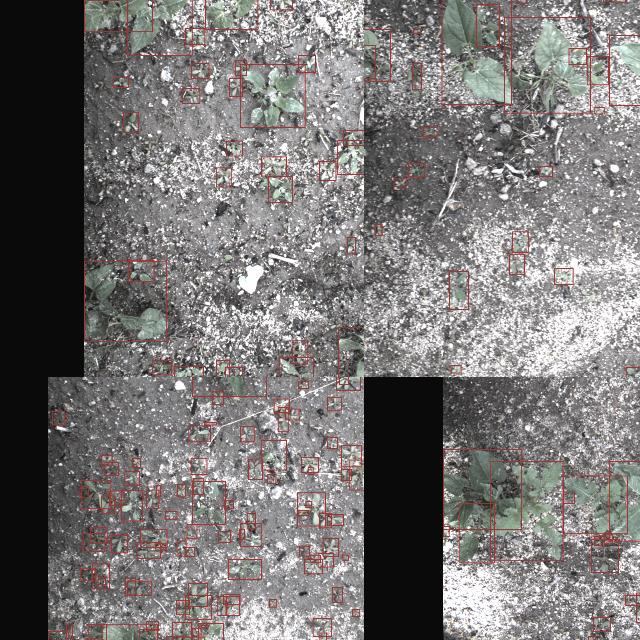crop: (504, 17, 590, 113), (441, 0, 511, 105), (84, 261, 166, 341), (442, 450, 522, 530), (126, 0, 191, 55), (608, 461, 640, 541), (83, 0, 152, 31), (610, 36, 640, 106), (204, 0, 257, 30), (364, 29, 389, 81), (101, 624, 156, 640), (198, 623, 223, 640), (364, 45, 375, 78)
weed: (490, 462, 562, 560), (240, 64, 306, 128), (563, 476, 627, 534), (458, 503, 494, 562), (192, 482, 226, 524), (192, 377, 266, 396), (476, 5, 499, 47), (297, 492, 325, 526), (337, 140, 364, 174), (592, 540, 618, 572), (82, 479, 110, 508), (448, 270, 468, 310), (262, 440, 286, 470), (278, 357, 313, 377), (120, 491, 142, 522), (228, 559, 262, 579), (268, 176, 292, 202), (185, 596, 211, 620), (588, 56, 608, 85), (128, 260, 154, 282), (240, 524, 262, 546), (141, 530, 167, 548), (262, 157, 286, 176), (349, 460, 364, 490), (341, 445, 361, 467), (188, 584, 208, 606), (92, 564, 110, 588), (82, 533, 104, 551), (137, 542, 161, 558), (292, 341, 308, 364), (188, 426, 210, 442), (336, 377, 361, 391), (174, 365, 203, 377), (172, 622, 191, 640), (127, 581, 151, 595), (110, 535, 128, 553), (313, 618, 331, 636), (122, 112, 138, 132), (185, 28, 205, 44), (512, 232, 528, 252), (554, 268, 574, 284), (343, 130, 364, 145), (319, 162, 336, 180), (87, 624, 106, 640), (249, 458, 263, 479), (182, 88, 200, 104), (298, 56, 316, 72), (569, 48, 587, 64), (305, 558, 323, 574), (152, 360, 172, 374), (510, 254, 524, 274), (226, 596, 240, 616), (412, 63, 422, 89), (226, 140, 242, 156), (191, 458, 207, 474), (108, 490, 124, 506), (90, 527, 106, 543), (216, 168, 230, 186), (324, 538, 338, 556), (278, 408, 288, 432), (102, 496, 115, 514), (192, 64, 208, 78), (408, 163, 424, 177), (274, 399, 290, 413), (302, 458, 318, 472), (240, 426, 254, 442), (124, 471, 140, 485), (318, 553, 334, 567), (594, 617, 610, 631), (216, 360, 229, 377), (270, 0, 292, 10), (230, 78, 242, 96), (146, 490, 158, 508), (138, 629, 157, 640), (327, 397, 341, 411), (104, 462, 118, 476), (176, 601, 190, 615), (328, 514, 344, 526), (80, 568, 96, 580), (125, 578, 135, 596), (48, 631, 68, 640), (236, 60, 247, 76), (224, 367, 241, 377), (223, 595, 240, 605), (320, 514, 332, 528), (52, 411, 64, 425), (346, 237, 356, 253), (112, 77, 128, 87), (193, 478, 203, 494), (218, 596, 226, 616), (285, 408, 299, 419), (625, 595, 640, 605), (177, 540, 186, 556), (423, 127, 437, 137), (626, 367, 640, 377), (187, 525, 197, 539), (332, 588, 342, 602), (540, 166, 552, 176), (212, 392, 222, 404), (100, 456, 112, 466), (218, 532, 230, 542), (564, 492, 574, 504), (177, 484, 185, 498), (247, 514, 255, 528), (327, 438, 338, 448), (191, 628, 200, 640), (66, 623, 72, 640), (341, 470, 351, 480), (299, 546, 309, 556), (594, 536, 604, 546), (374, 224, 382, 236), (394, 178, 406, 186), (165, 511, 177, 519), (146, 622, 158, 630), (80, 487, 88, 498), (451, 365, 461, 373), (268, 474, 276, 484), (132, 458, 140, 468), (604, 534, 612, 544), (224, 499, 232, 508), (184, 548, 193, 556), (97, 577, 105, 585), (339, 377, 348, 384), (595, 108, 605, 114), (299, 382, 309, 388), (299, 510, 309, 516), (155, 544, 165, 550), (311, 556, 321, 562), (443, 526, 449, 536), (165, 637, 182, 640), (319, 633, 326, 640), (413, 28, 421, 34), (270, 599, 276, 607), (352, 610, 360, 616), (156, 486, 160, 496), (240, 529, 244, 539), (308, 468, 314, 474), (306, 501, 312, 507), (342, 554, 348, 560), (588, 636, 596, 640), (516, 0, 526, 3), (204, 422, 216, 424), (202, 625, 208, 627)
